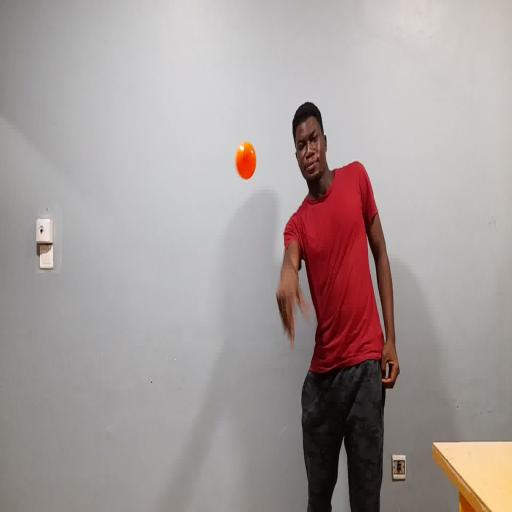plastic-ball: (228, 132, 263, 194)
